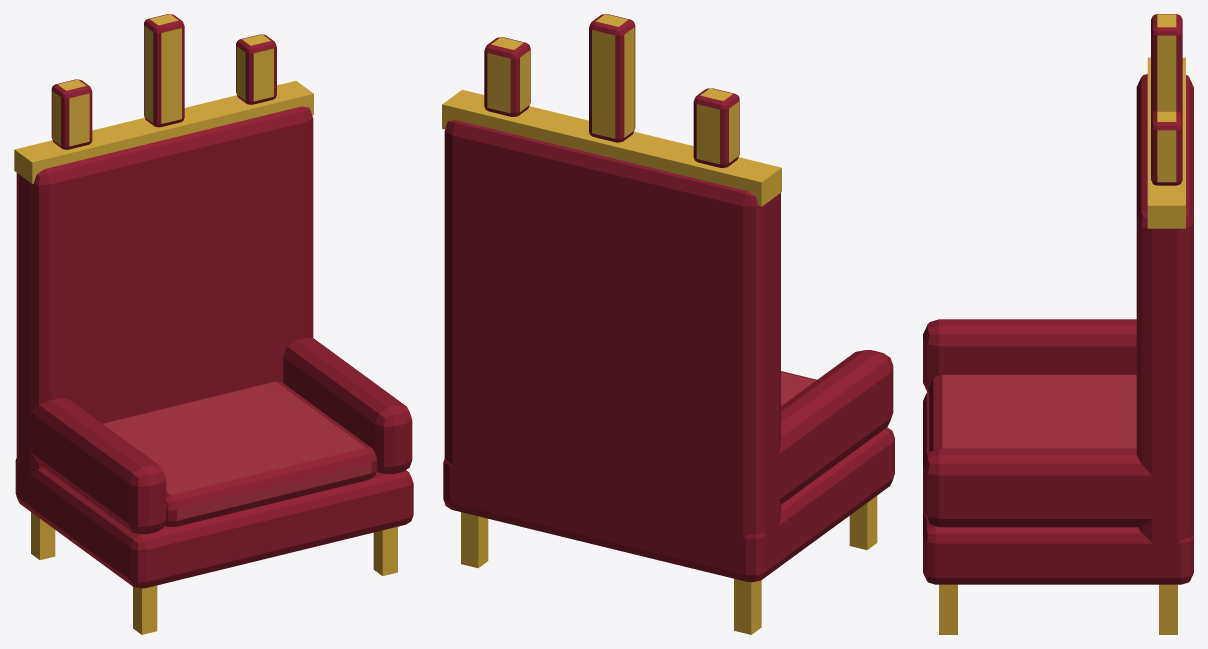
Rendered from taht.glb.
3 views of the same model, side by side, from view 1: azimuth 30°, elevation 25°; view 2: azimuth 150°, elevation 25°; view 3: azimuth 270°, elevation 25° (orthographic). The views are drawn at different scales.
Visible parts, largest first — view 1: taht; view 2: taht; view 3: taht.
Boxes of the visible parts, x1,y1,x2,y2 form: taht: (14, 14, 413, 634); taht: (442, 14, 894, 634); taht: (923, 14, 1193, 634).
Size of the model in its own units: 1.1 by 1.89 by 0.85.
